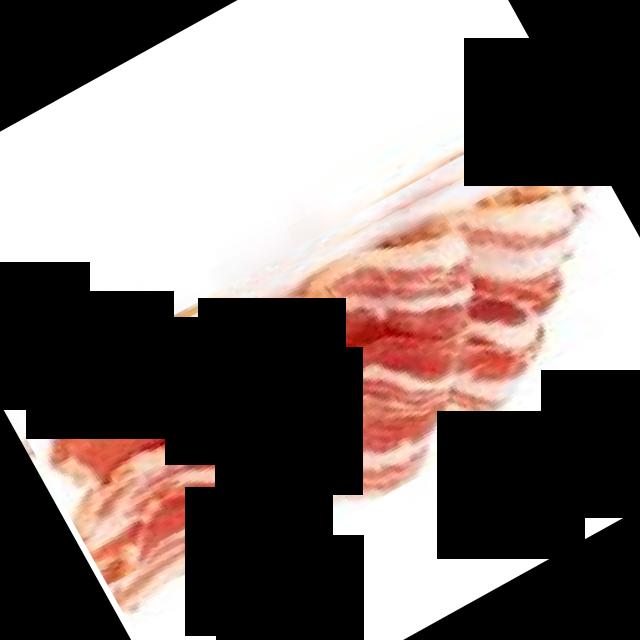bacon: (9, 99, 640, 634)
